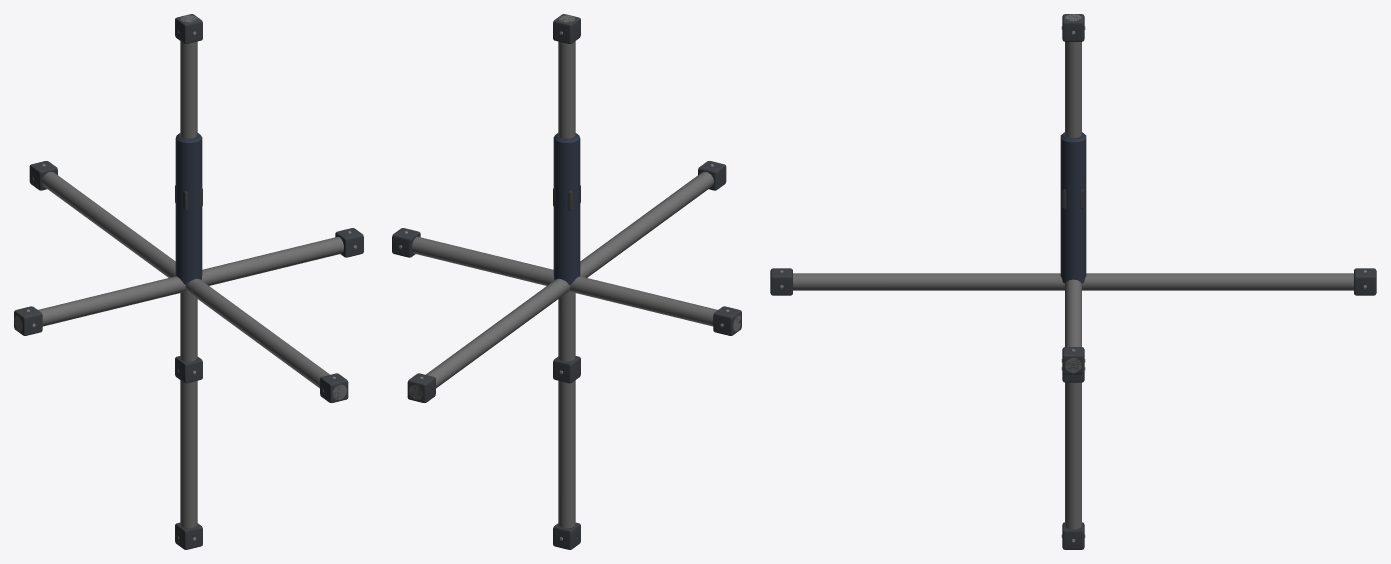
The model's file is estilo_tubo_jaula.glb.
3 renders of one model, left to right at view 1: azimuth 30°, elevation 25°; view 2: azimuth 150°, elevation 25°; view 3: azimuth 270°, elevation 25°, orthographic.
Parts seen in each view (by area): view 1: b60x1800x60, b60x60x1870, b1220x60x60, b60x660x60; view 2: b60x1800x60, b60x60x1870, b1220x60x60, b60x660x60; view 3: b60x60x1870, b60x1800x60, b1220x60x60.
Boxes of the visible parts, bbox=[...] form: b60x1800x60: bbox=[175, 14, 202, 549]; b60x60x1870: bbox=[29, 161, 348, 402]; b1220x60x60: bbox=[14, 228, 363, 335]; b60x660x60: bbox=[175, 185, 202, 383]; b60x1800x60: bbox=[553, 14, 580, 549]; b60x60x1870: bbox=[407, 161, 726, 402]; b1220x60x60: bbox=[392, 228, 741, 335]; b60x660x60: bbox=[553, 185, 580, 383]; b60x60x1870: bbox=[770, 268, 1376, 295]; b60x1800x60: bbox=[1060, 14, 1086, 549]; b1220x60x60: bbox=[1061, 279, 1085, 374].
Size of the model in its own units: 1.22 by 1.8 by 1.87.
